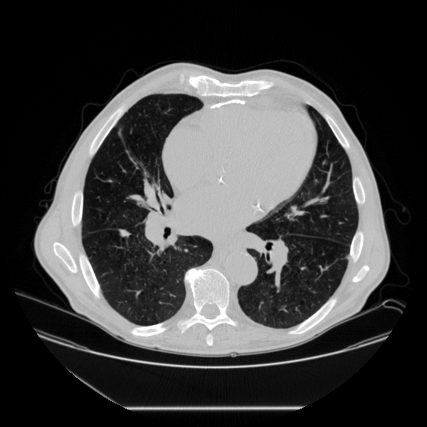nodule: (120, 229, 128, 237)
